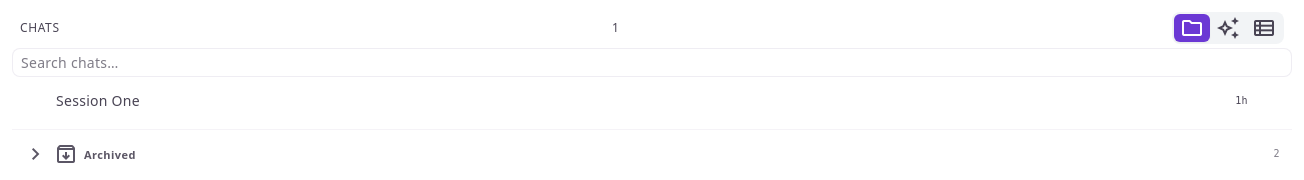
Scenario: 已归档 section (卡A) › keeps the section hidden while searching
The image size is (1304, 180).
In the search field: (652, 62) [12, 48, 1292, 77], type "Ses"
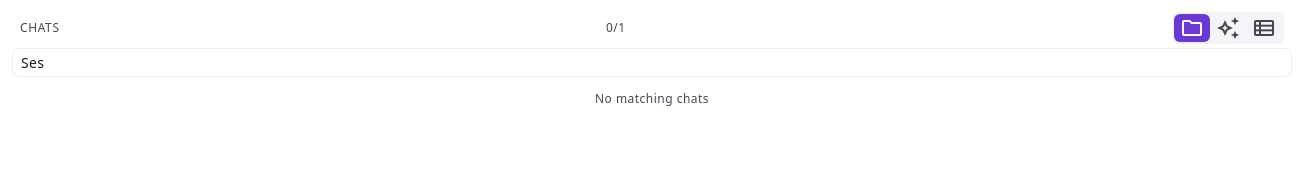
Check: the element with test id "sidebar-archived-section" is gone
